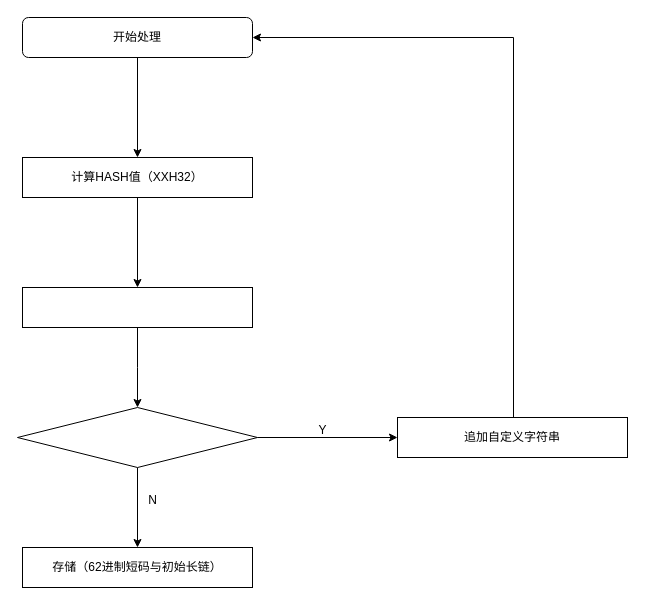
This 645x605 diagram has some shape labels left out. The shapes that lost their labels are listed below. From the top down, each one's centre as x and y in pixels, then its label:
At [137,307]: "转换为62进制".
At [137,437]: "查询是否含有此键（FASTER）".
